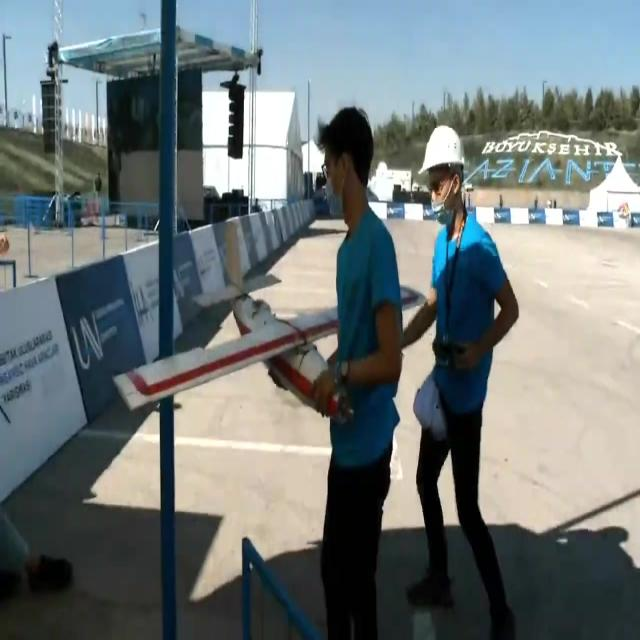iha: (112, 219, 429, 424)
